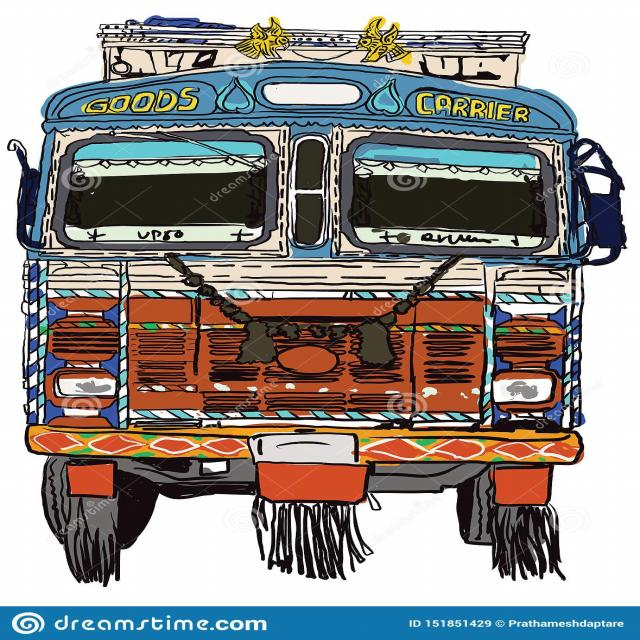Truck: (17, 59, 605, 570)
